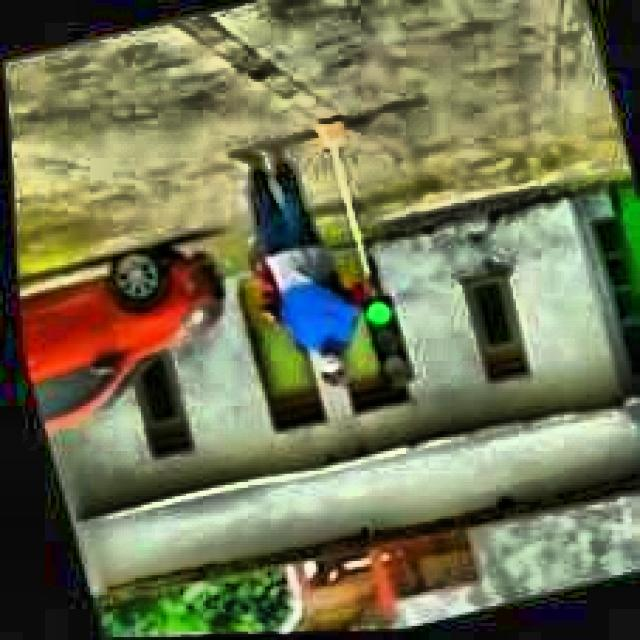green: (355, 295, 412, 393)
